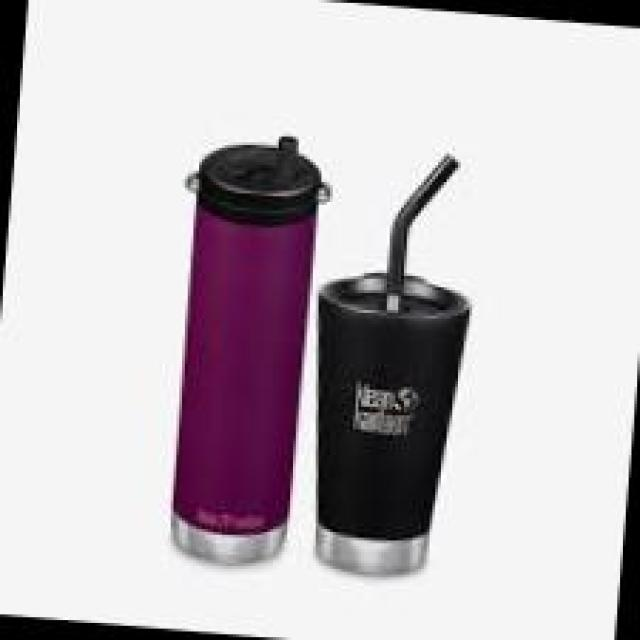bottle: (150, 118, 336, 570), (294, 144, 485, 578)
